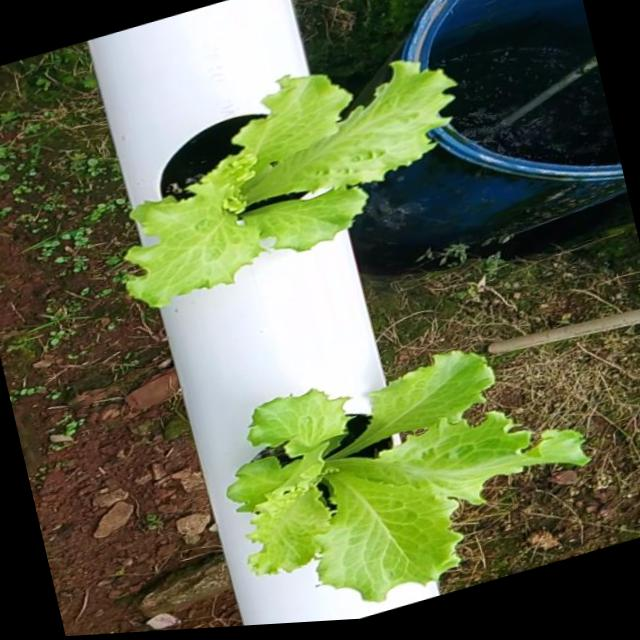Baby: (227, 346, 590, 599), (123, 52, 455, 300)
